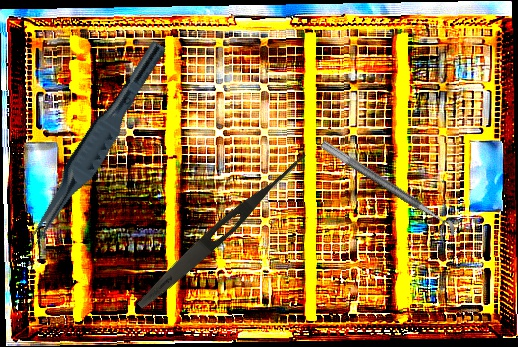Dressing Forceps: (133, 146, 311, 314)
Fixation Ring: (312, 139, 460, 246)
Tissue Forceps: (21, 33, 169, 254)
